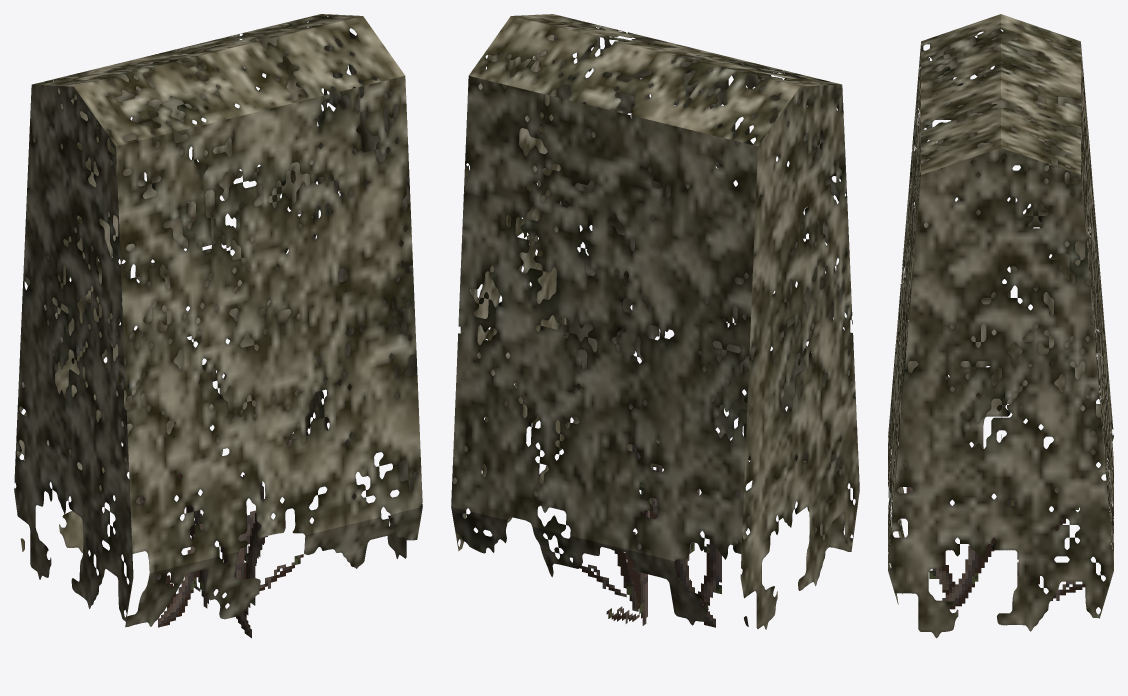
Rendered from bush_tall_half_roots_dead.fbx.
3 views of the same model, side by side, from view 1: azimuth 30°, elevation 25°; view 2: azimuth 150°, elevation 25°; view 3: azimuth 270°, elevation 25° (orthographic). The views are drawn at different scales.
Visible parts, largest first — view 1: bush_tall_half_roots_dead; view 2: bush_tall_half_roots_dead; view 3: bush_tall_half_roots_dead.
Boxes of the visible parts, x1,y1,x2,y2 form: bush_tall_half_roots_dead: (14, 14, 422, 638); bush_tall_half_roots_dead: (451, 14, 859, 629); bush_tall_half_roots_dead: (888, 14, 1113, 638).
Size of the model in its own units: 101 by 188 by 71.91.
Materials: 2 (2 with a texture image).
